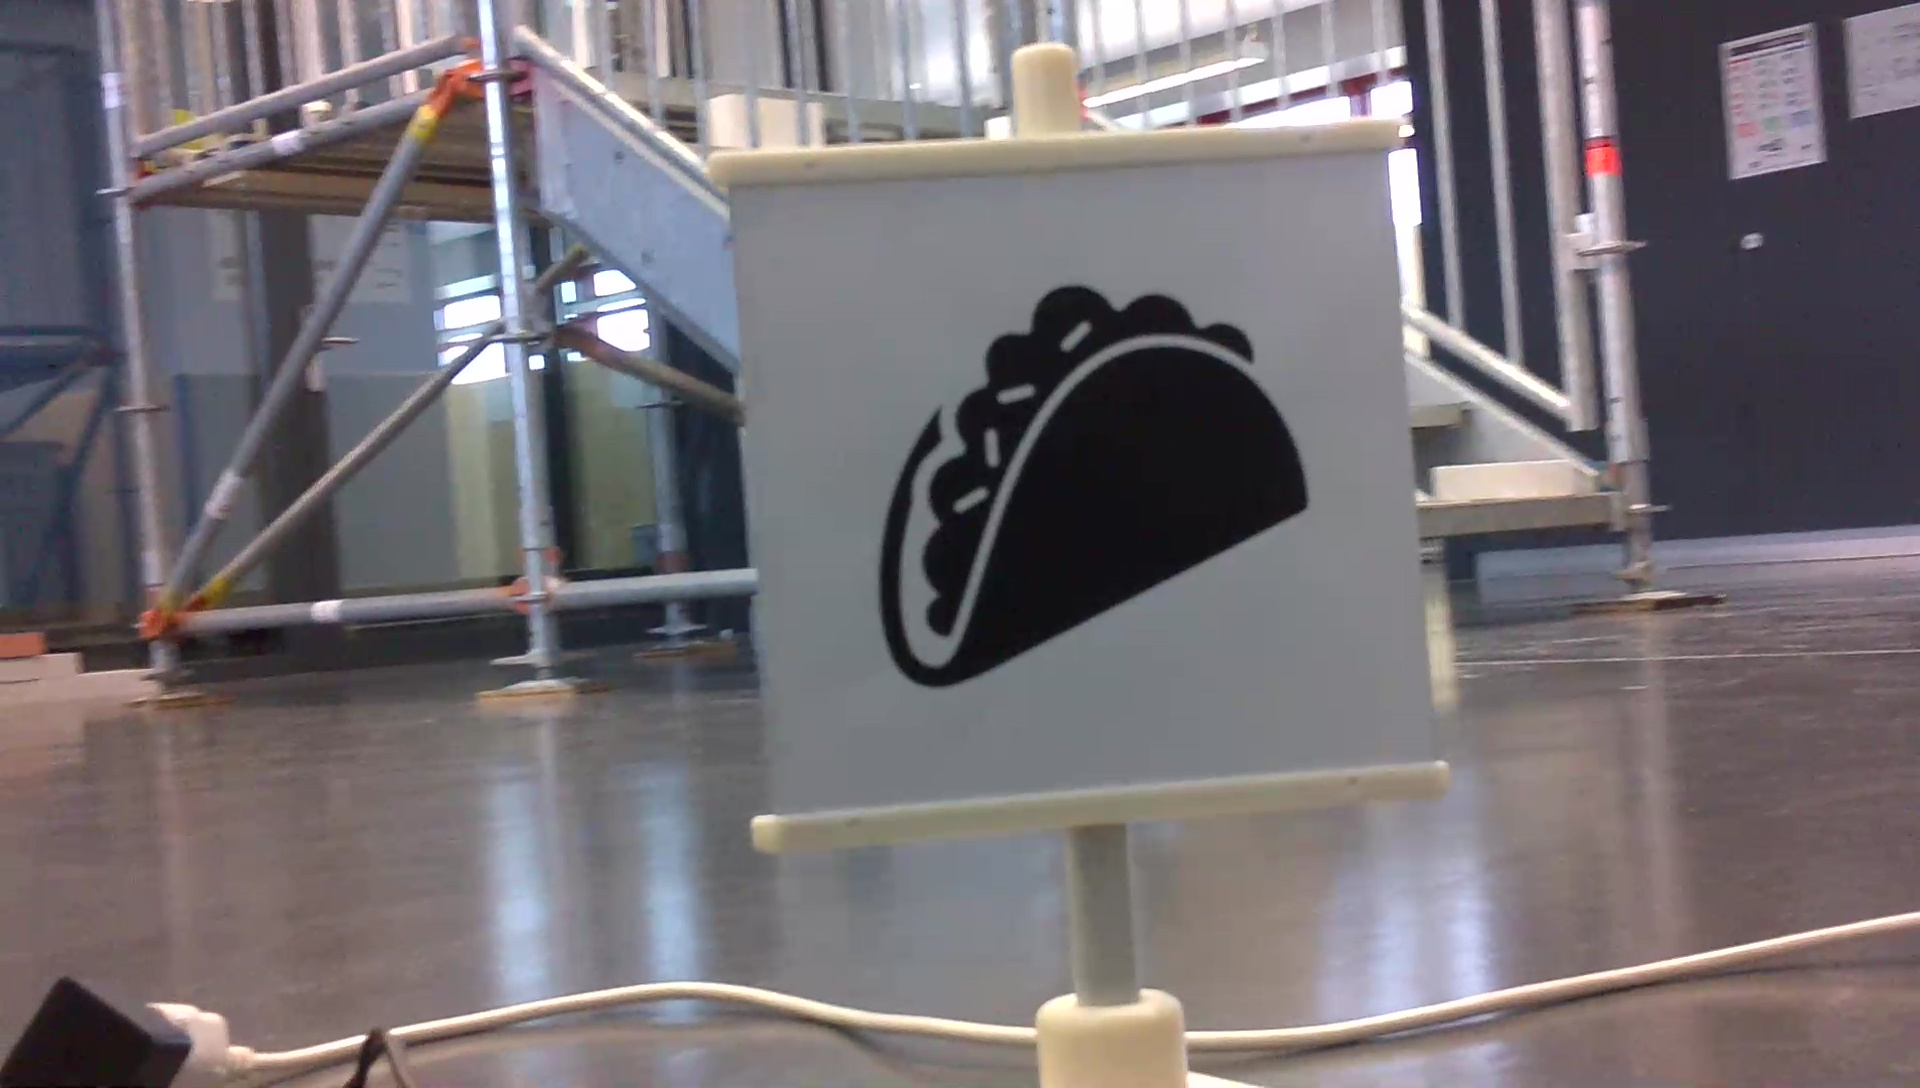brick: (1435, 462, 1572, 502)
taco: (860, 270, 1317, 698)
